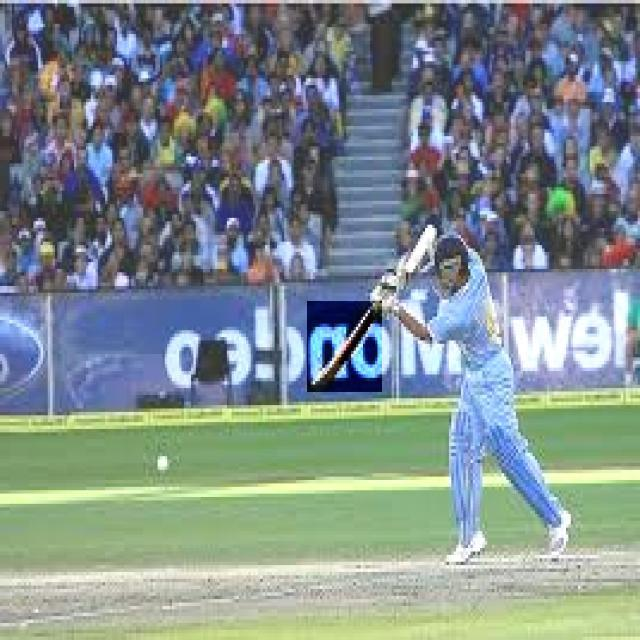bat: (306, 300, 381, 392)
toe: (275, 368, 342, 406)
